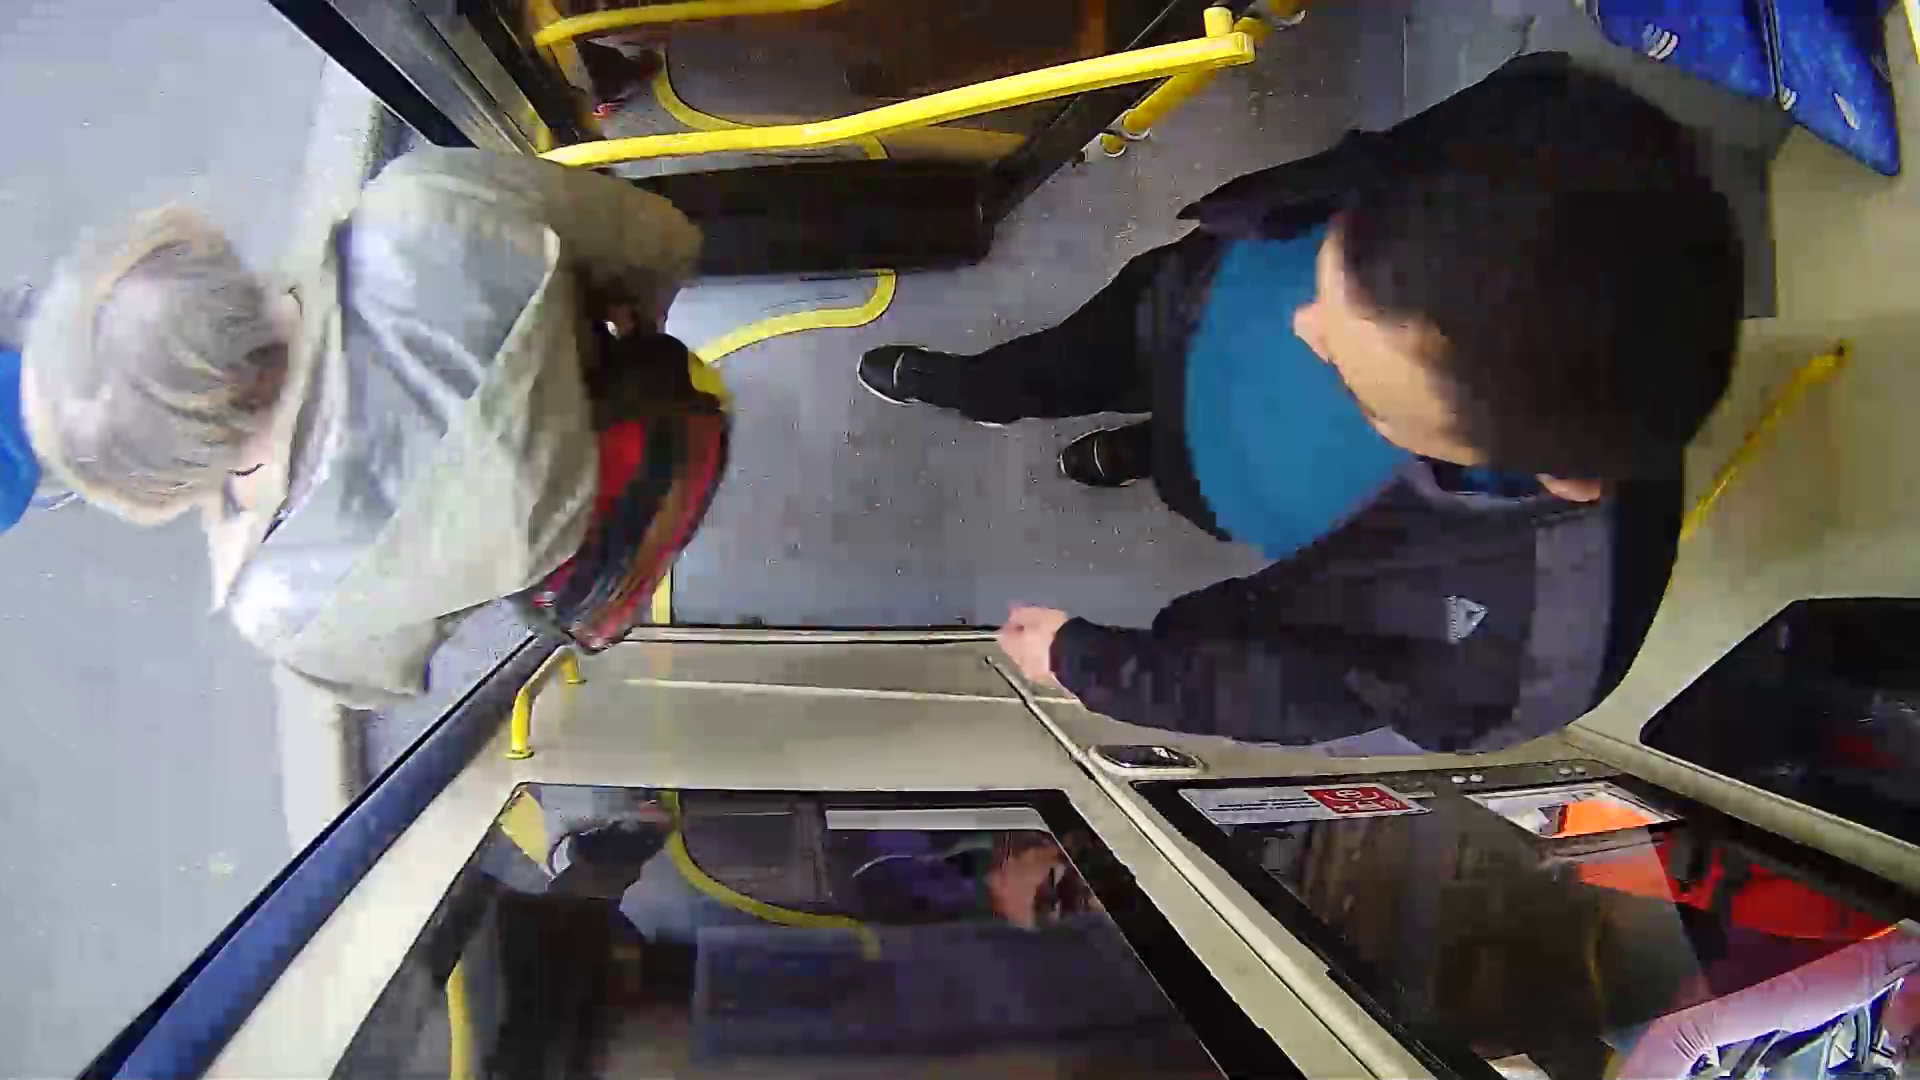person: (955, 26, 1770, 799), (28, 124, 814, 696)
